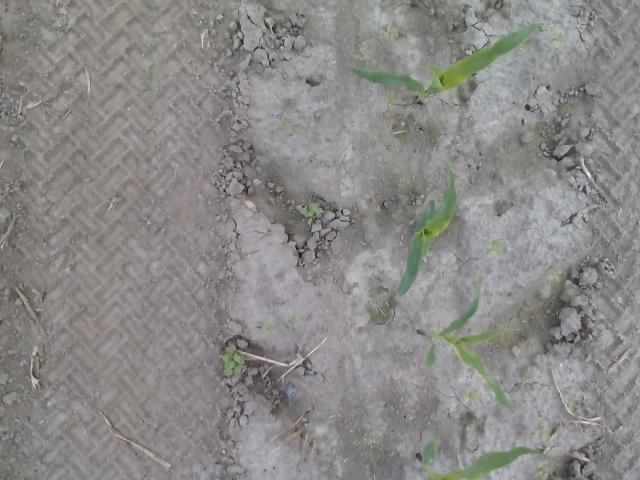Maize: (354, 21, 542, 108), (417, 280, 520, 412), (396, 160, 458, 299), (415, 439, 548, 480)
Weeds: (222, 342, 246, 376), (298, 202, 326, 223), (352, 46, 376, 60), (536, 418, 552, 439), (486, 242, 506, 257), (382, 94, 402, 106), (464, 392, 485, 402), (382, 28, 400, 39), (547, 270, 562, 283), (566, 400, 580, 412), (537, 468, 552, 479), (552, 31, 562, 42)
